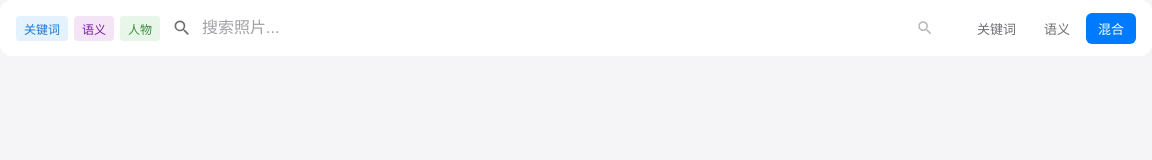
Scenario: SearchBar Component - Epic E-05 › E-05.1: 搜索界面优化 - Additional Tests › should enable search button when query has content (AC: 快速输入查询)
This screenshot has width=1152, height=160.
In the field with class "search-input": (550, 28) 200,18 -> 901,38, type "test"
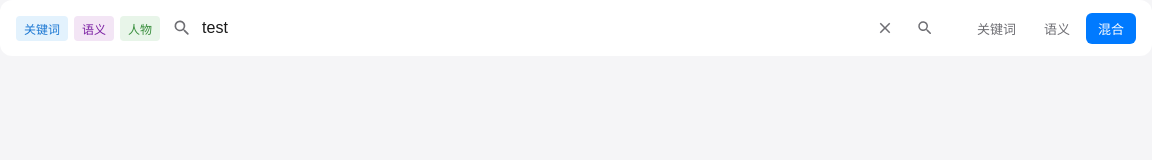
Expected: the button with class "search-button" is enabled, 909,12 -> 941,44
